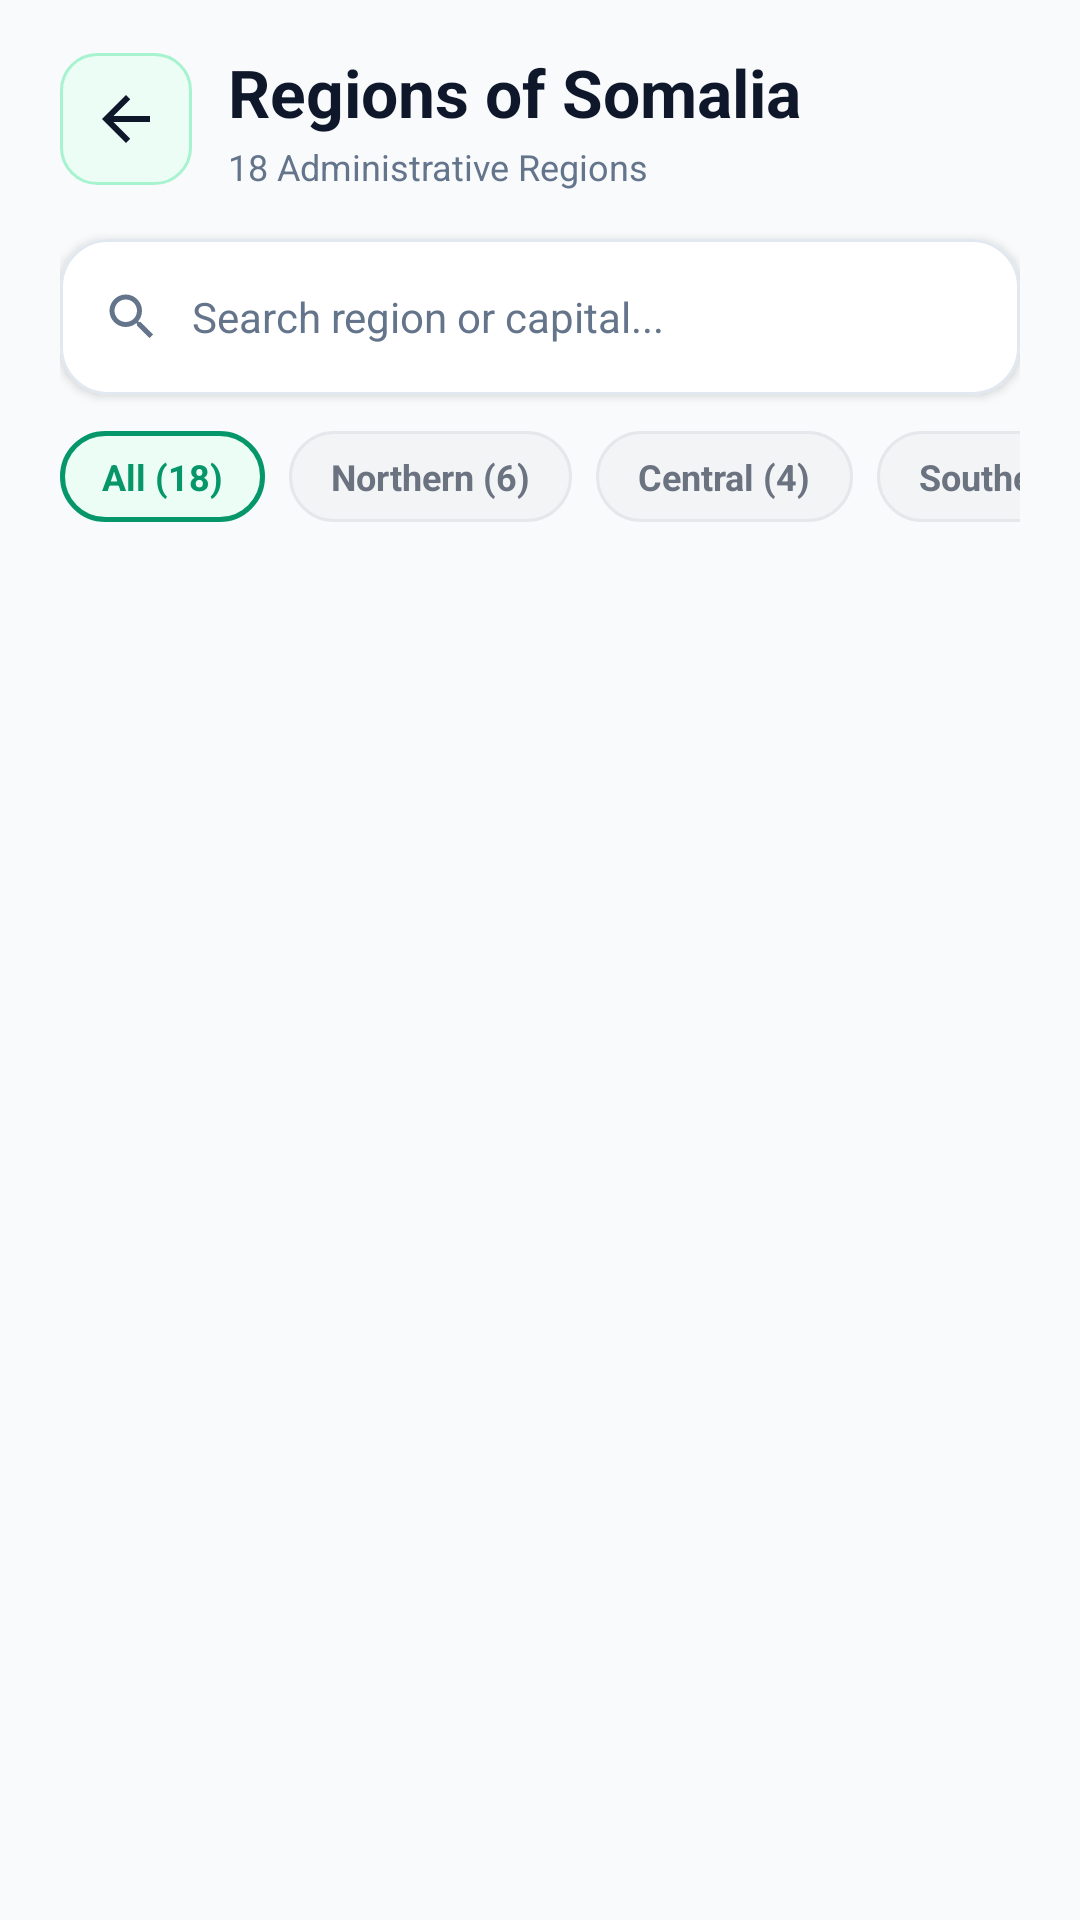

Named icons in this screenshot (1080 x 1920) and their centers, [x,y]:
Back: [126,119]
